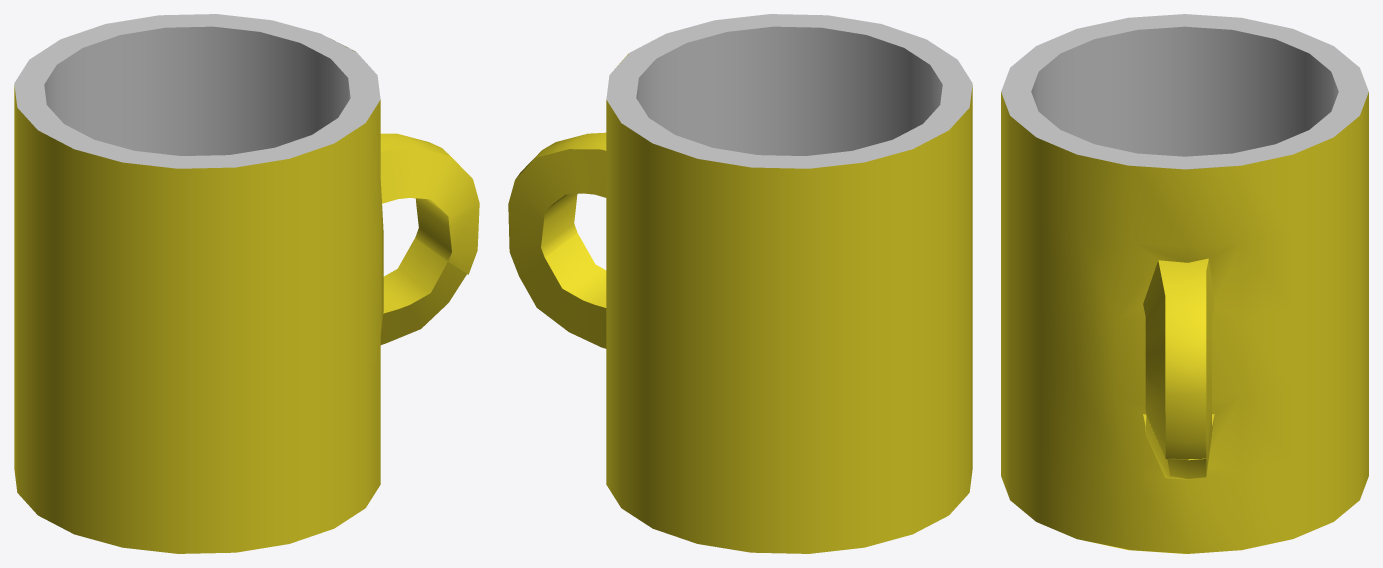
Rendered from coffee_mug_fbx2.fbx.
3 views of the same model, side by side, from view 1: azimuth 30°, elevation 25°; view 2: azimuth 150°, elevation 25°; view 3: azimuth 270°, elevation 25° (orthographic).
Parts seen in each view (by area): view 1: Cylinder; view 2: Cylinder; view 3: Cylinder.
Boxes of the visible parts, x1,y1,x2,y2 form: Cylinder: (14,14,479,553); Cylinder: (508,14,972,553); Cylinder: (1001,14,1368,553).
Bounding box in the file's own units: 352 × 300 × 260.
